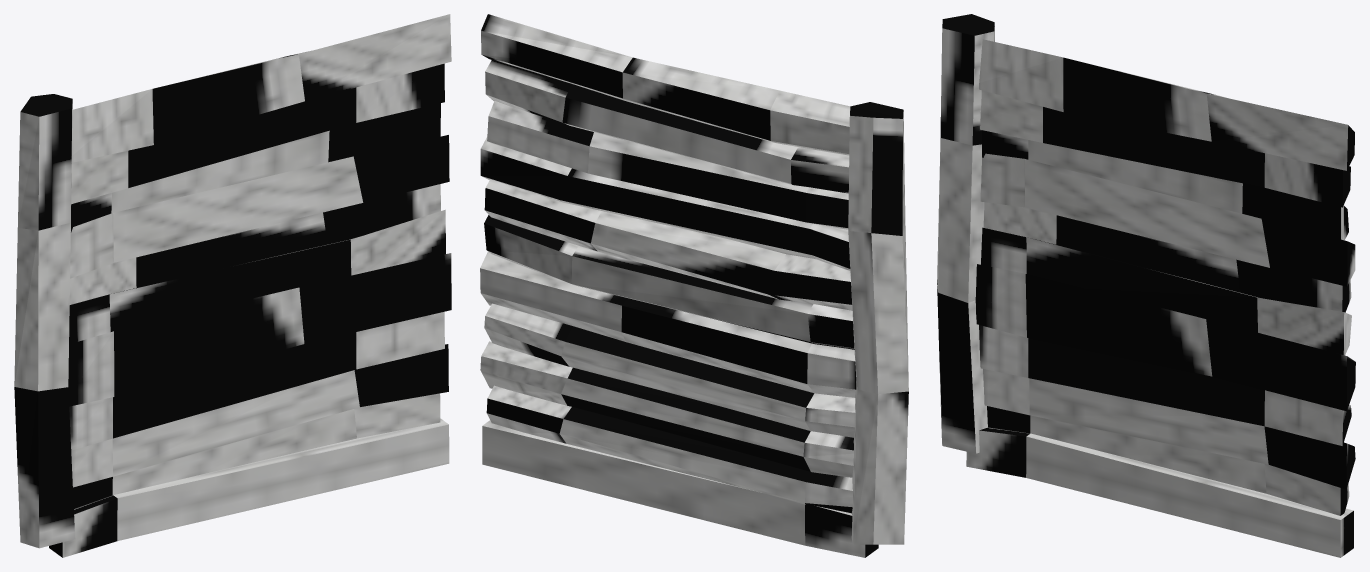
The model's file is iglooWall.obj.
3 renders of one model, left to right at view 1: azimuth 30°, elevation 25°; view 2: azimuth 150°, elevation 25°; view 3: azimuth 330°, elevation 25°, orthographic. The views are drawn at different scales.
Parts seen in each view (by area): view 1: iglooWall; view 2: iglooWall; view 3: iglooWall.
Part boxes in pixels (x1,y1,x2,y2): iglooWall: [14, 14, 451, 557]; iglooWall: [480, 14, 908, 557]; iglooWall: [937, 14, 1355, 557].
Bounding box in the file's own units: 1 × 1 × 0.1.
Materials: 1 (1 with a texture image).
